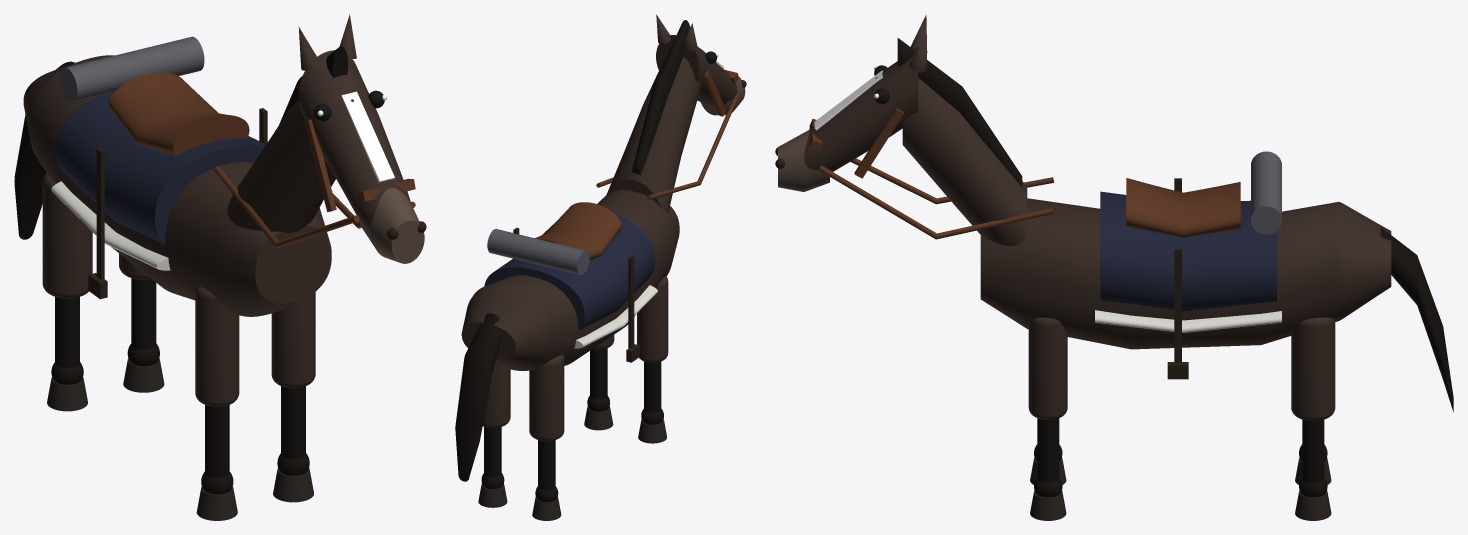
File: horse_black.glb
The picture shows the model from 3 angles, left to right: view 1: azimuth 30°, elevation 25°; view 2: azimuth 150°, elevation 25°; view 3: azimuth 270°, elevation 25°; orthographic projection. The views are drawn at different scales.
Visible parts, largest first — view 1: Body, Cloth, Head, Neck, Saddle, Cloak, Upper_FL, Upper_HL, Upper_FR, Muzzle, Tail, ClothTrim (+18 smaller); view 2: Body, Cloth, Neck, Tail, Saddle, Upper_HL, Cloak, Mane, Upper_FL, Head, Upper_HR, ClothTrim (+12 smaller); view 3: Body, Cloth, Neck, Head, Saddle, Upper_HR, Upper_FR, Tail, Mane, Cloak, ClothTrim, Muzzle (+8 smaller).
Part boxes in pixels (x1,y1,x2,y2): Body: (23, 55, 331, 316); Cloth: (55, 92, 265, 244); Head: (298, 50, 411, 225); Neck: (227, 100, 335, 232); Saddle: (108, 72, 249, 155); Cloak: (59, 36, 204, 101); Upper_FL: (195, 286, 239, 406); Upper_HL: (42, 173, 92, 298); Upper_FR: (271, 292, 315, 388); Muzzle: (359, 188, 424, 263); Tail: (14, 61, 74, 239); ClothTrim: (51, 181, 170, 270); Body: (461, 190, 679, 370); Cloth: (484, 214, 655, 330); Neck: (606, 56, 700, 213); Tail: (455, 313, 500, 481); Saddle: (535, 202, 621, 259); Upper_HL: (529, 355, 564, 441); Cloak: (487, 229, 589, 274); Mane: (631, 20, 690, 174); Upper_FL: (637, 276, 668, 362); Head: (656, 35, 737, 107); Upper_HR: (482, 364, 510, 427); ClothTrim: (574, 285, 657, 348); Body: (980, 198, 1391, 349); Cloth: (1100, 191, 1276, 311); Neck: (902, 78, 1027, 245); Head: (804, 47, 918, 171); Saddle: (1126, 178, 1240, 237); Upper_HR: (1291, 317, 1335, 421); Upper_FR: (1028, 317, 1067, 419); Tail: (1380, 227, 1453, 412); Mane: (897, 38, 1022, 187); Cloak: (1251, 151, 1281, 234); ClothTrim: (1095, 310, 1281, 332); Muzzle: (778, 130, 829, 191).
Size of the model in its own units: 0.69 by 2 by 2.61.
